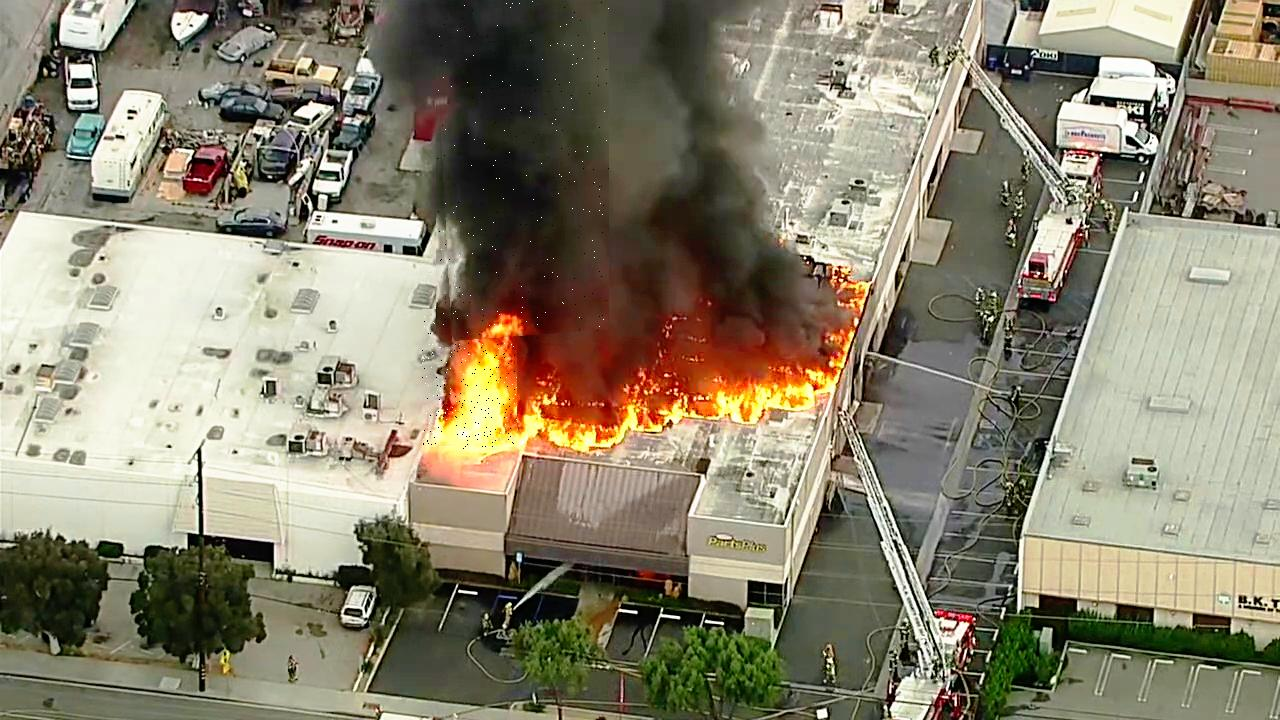fire: (437, 1, 612, 344), (422, 310, 517, 450)
